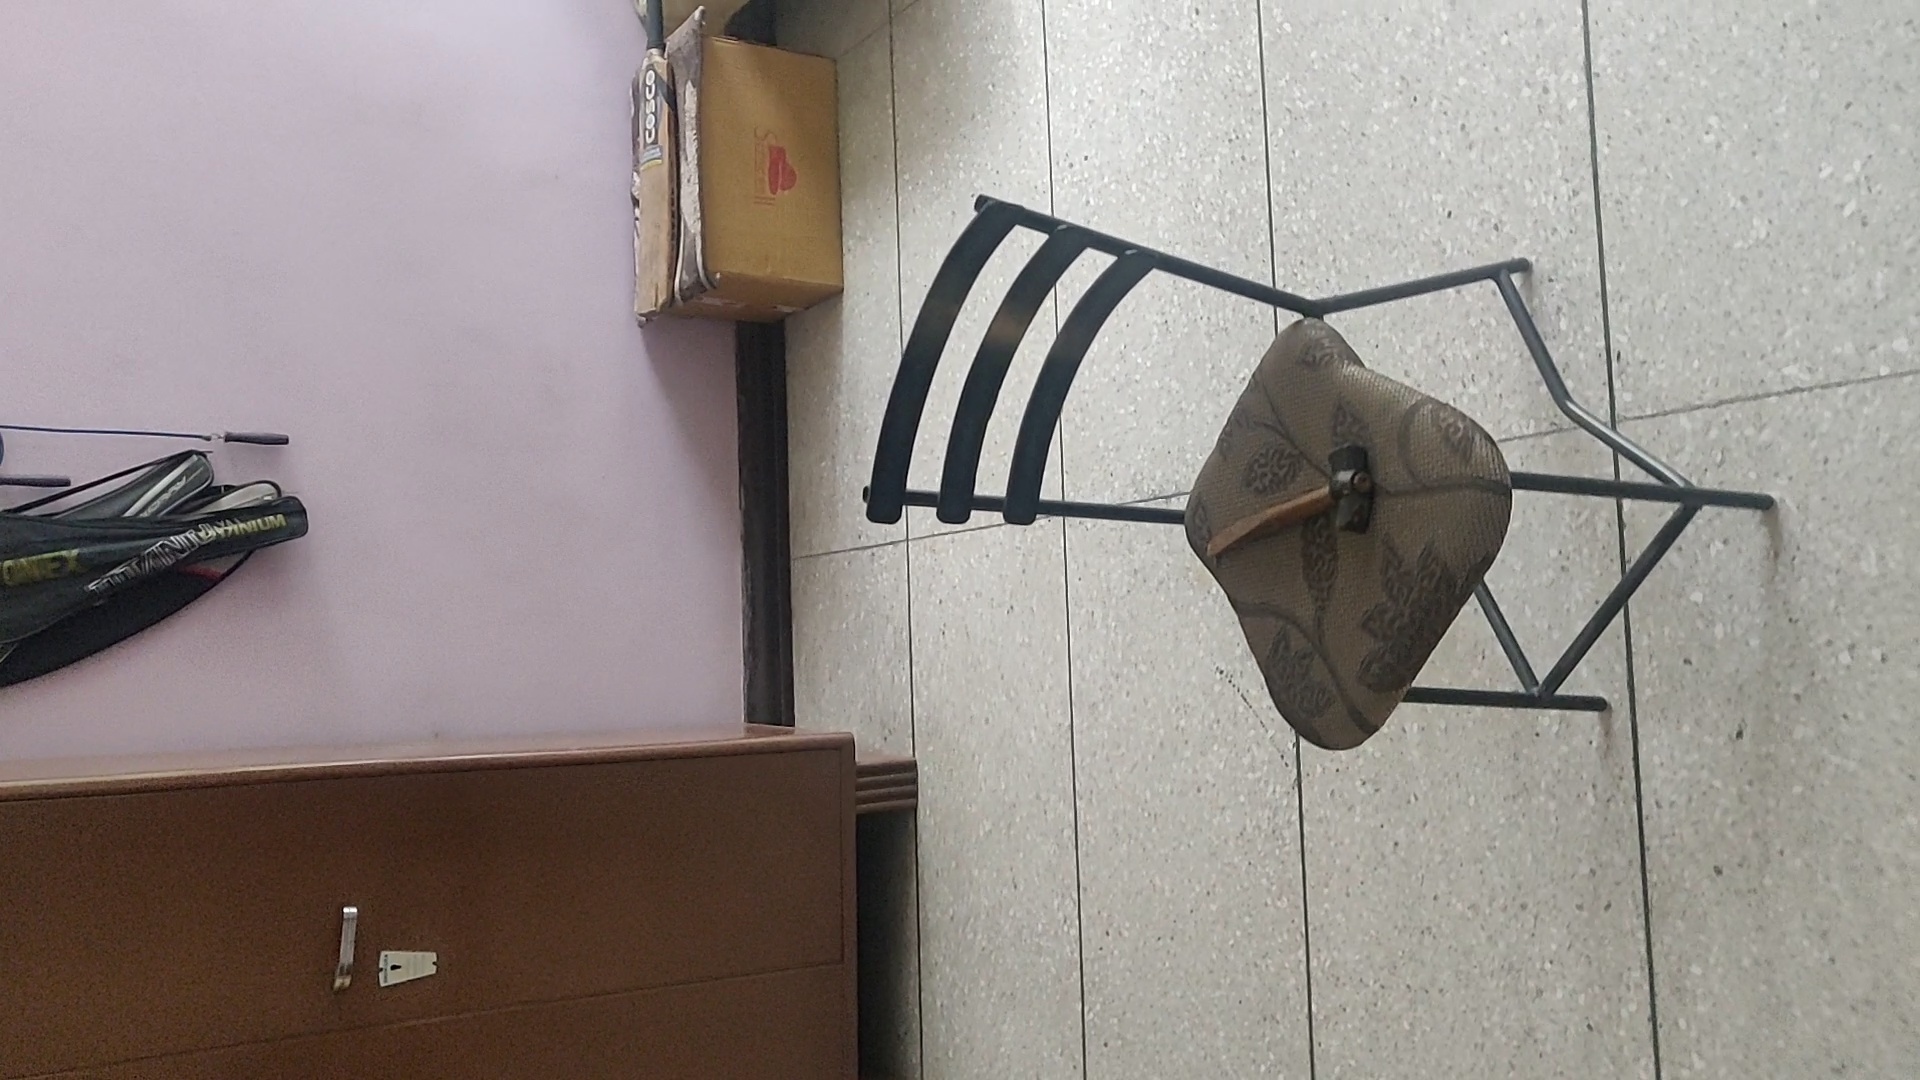hammer: (1204, 440, 1378, 574)
